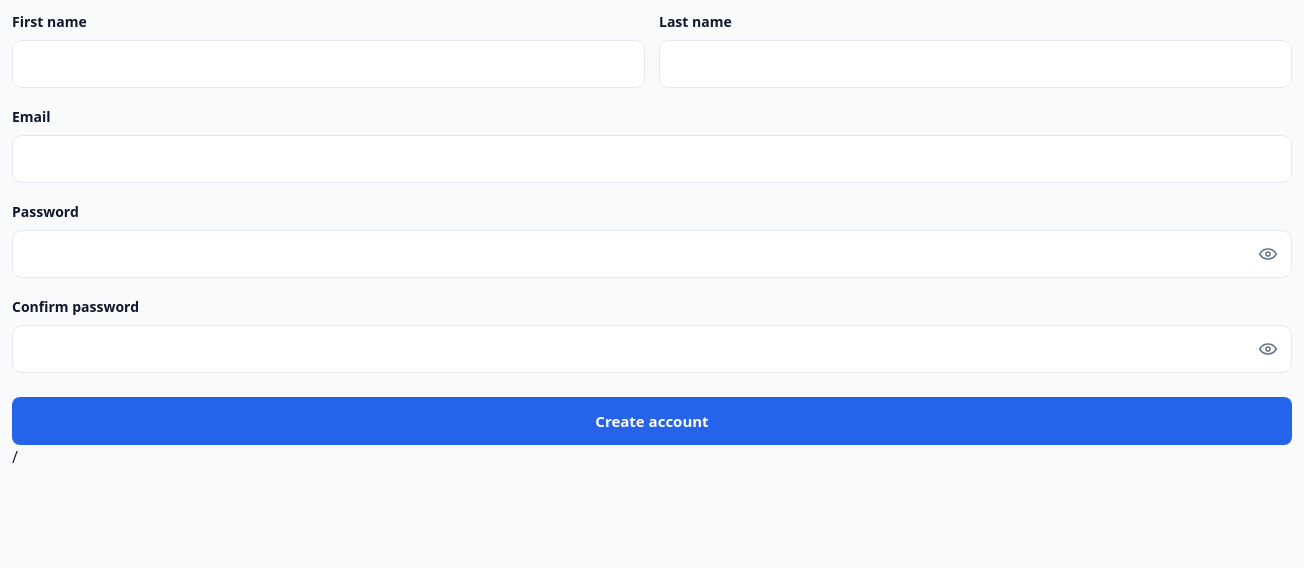
Scenario: RegisterForm › shows a validation error when the passwords do not match
Type "password123" into the password field labelled "Password". click: (652, 254)
box: [12,230,1292,278]
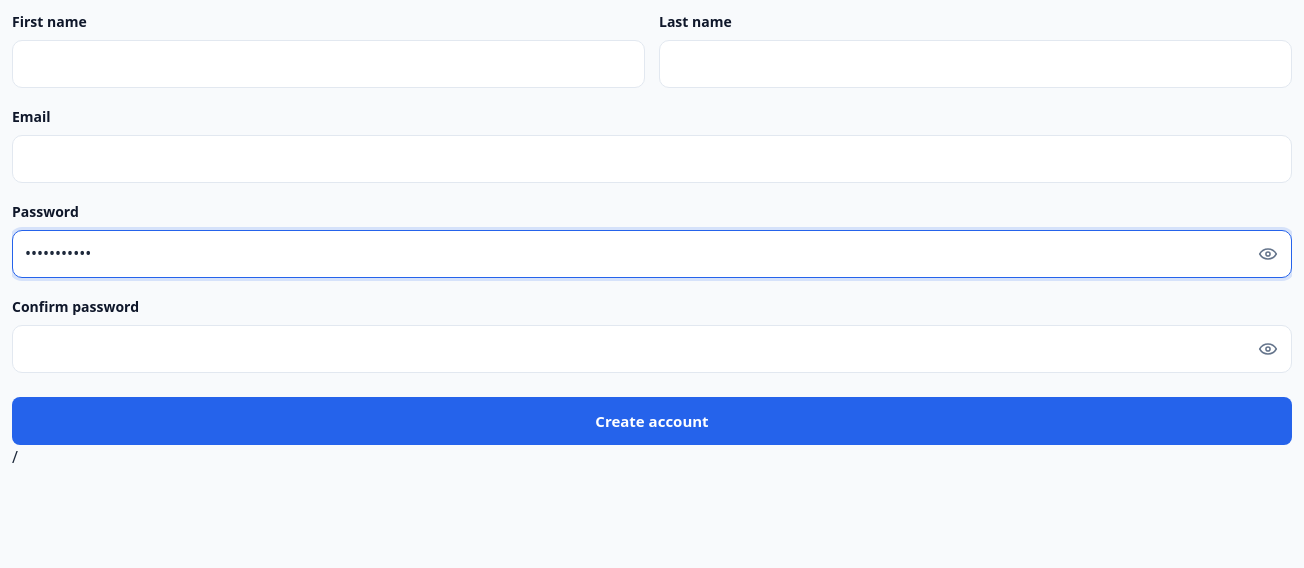
Type "different" into the password field labelled "Confirm password". click: (652, 349)
box: [12,325,1292,373]
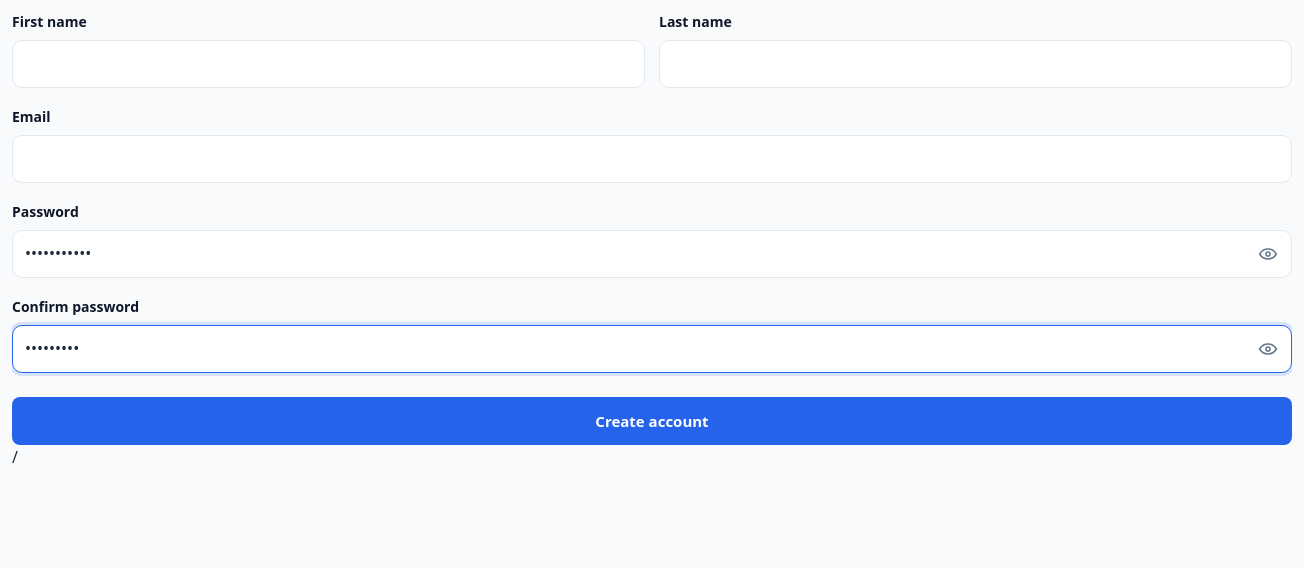
Click the button "Create account". click: (652, 421)
box: [12,397,1292,445]
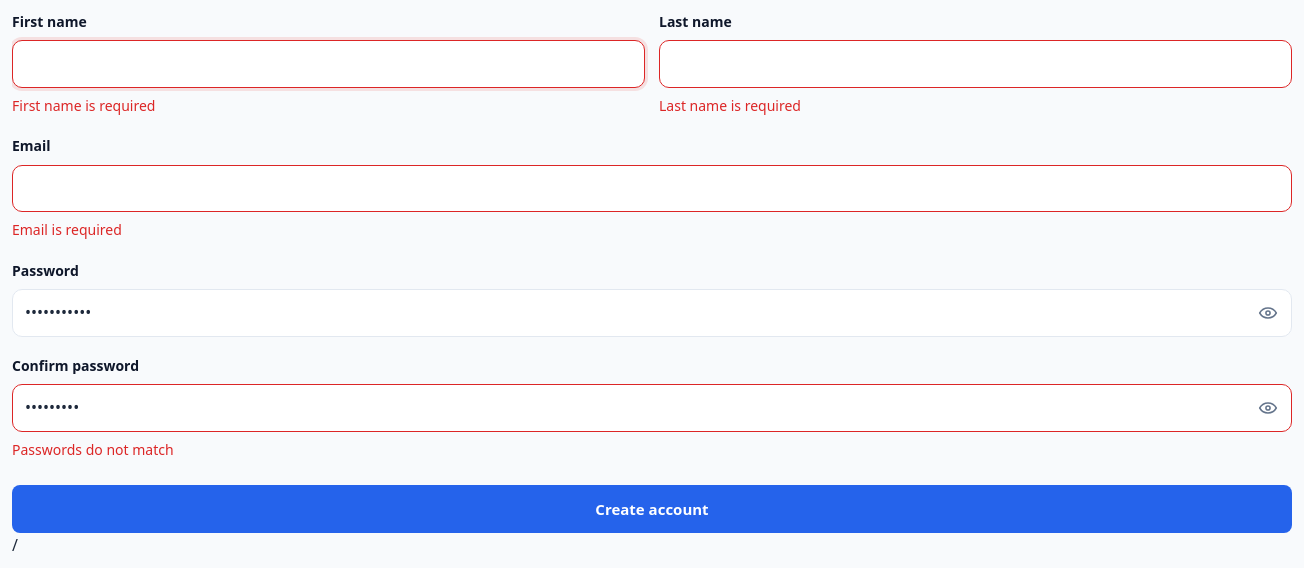
Expected: the text "Passwords do not match" is shown, [12,440,174,459]
